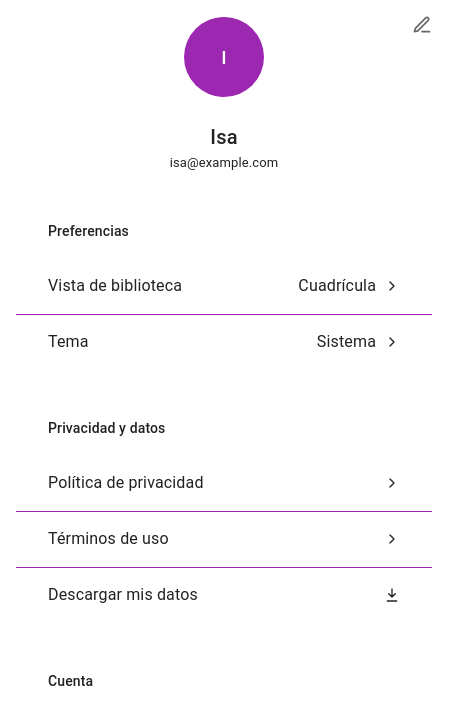
it: Given the download my data row of the profile › When the download fails without an explanation › Then a general message is shown
Check: the heading "Isa" is shown, box [210,125,238,149]
Click the button "Descargar mis datos": point(123, 594) [16,566,432,622]
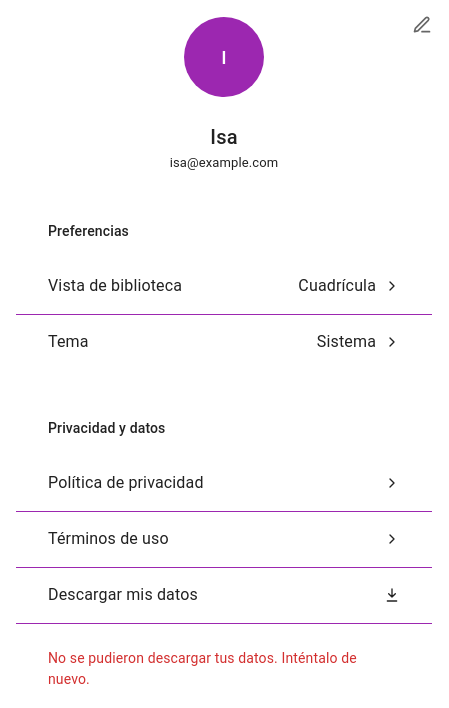
Check: the message shows "No se pudieron descargar tus datos", box [48,650,357,686]
